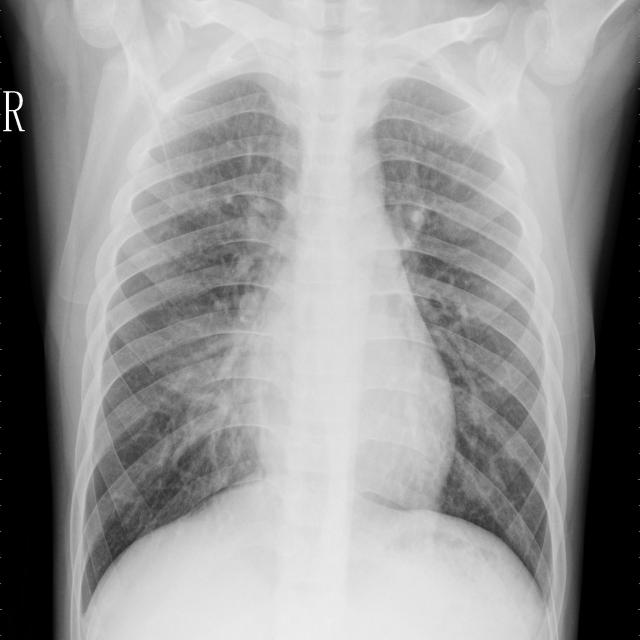low-pneumonia: (159, 299, 253, 438)
